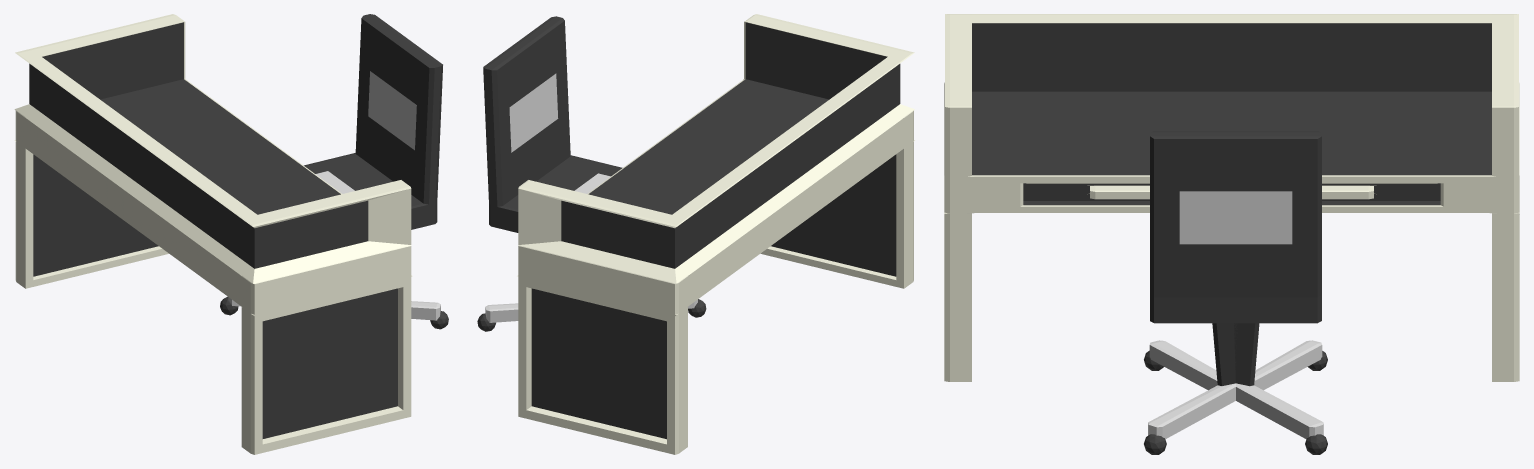
The model's file is table&chair2.fbx.
The picture shows the model from 3 angles, left to right: view 1: azimuth 30°, elevation 25°; view 2: azimuth 150°, elevation 25°; view 3: azimuth 270°, elevation 25°; orthographic projection. The views are drawn at different scales.
Parts seen in each view (by area): view 1: Cube, Cube.001; view 2: Cube, Cube.001; view 3: Cube, Cube.001.
Boxes of the visible parts, x1,y1,x2,y2 form: Cube: [14, 14, 412, 454]; Cube.001: [220, 14, 448, 329]; Cube: [517, 14, 914, 454]; Cube.001: [477, 16, 706, 331]; Cube: [944, 14, 1519, 381]; Cube.001: [1144, 131, 1327, 454].
Size of the model in its own units: 353 by 316 by 517.
